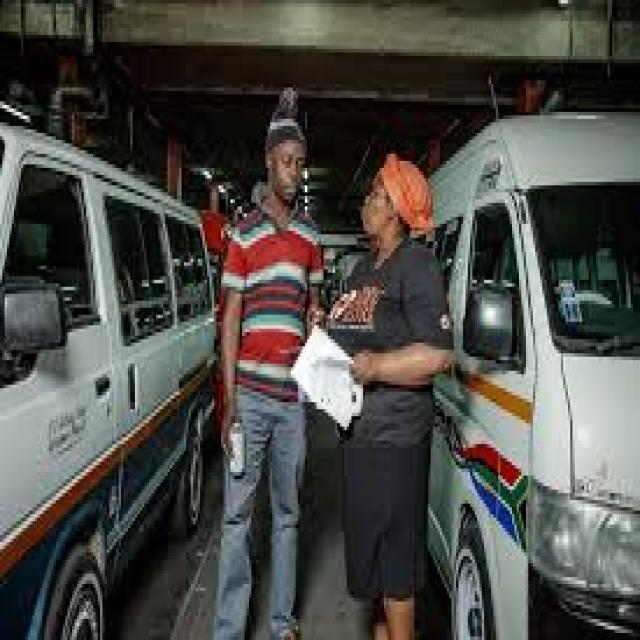MiniBus taxi: (2, 119, 228, 640), (435, 101, 638, 640)
Pedestrians: (207, 84, 331, 636), (347, 150, 456, 636)
